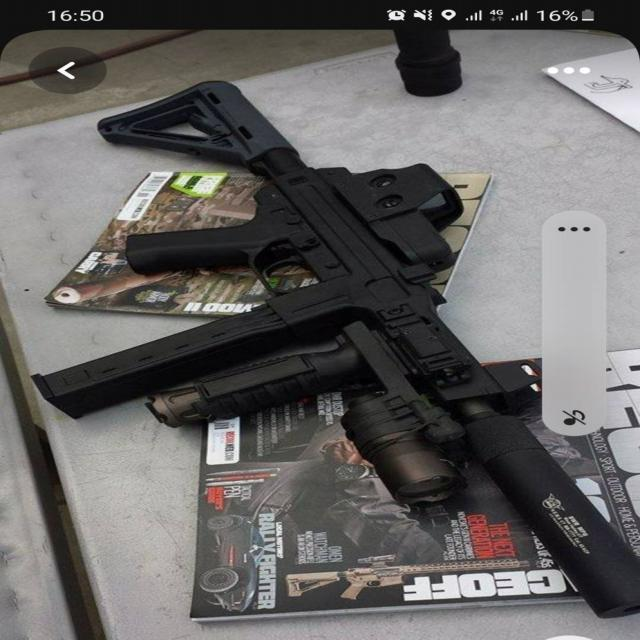m16: (36, 74, 534, 432)
